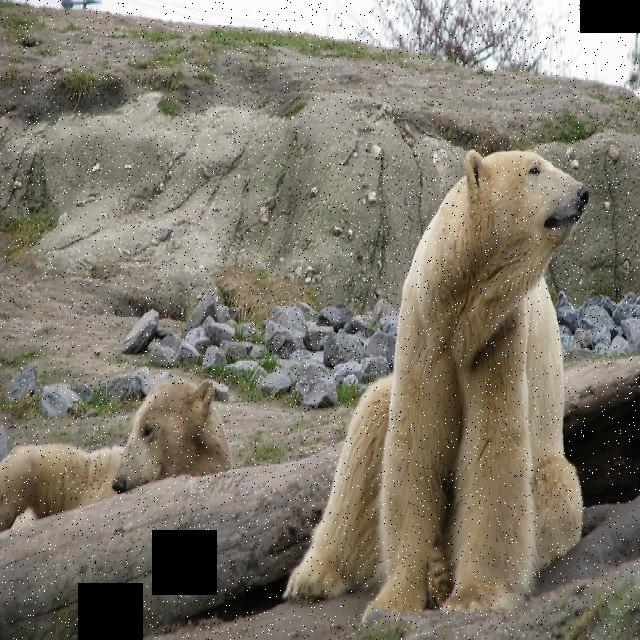Bear: (300, 142, 593, 623), (2, 386, 235, 540)
